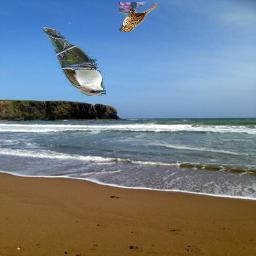Cuckoo: (42, 28, 106, 97)
Sparrow: (120, 2, 159, 32)
